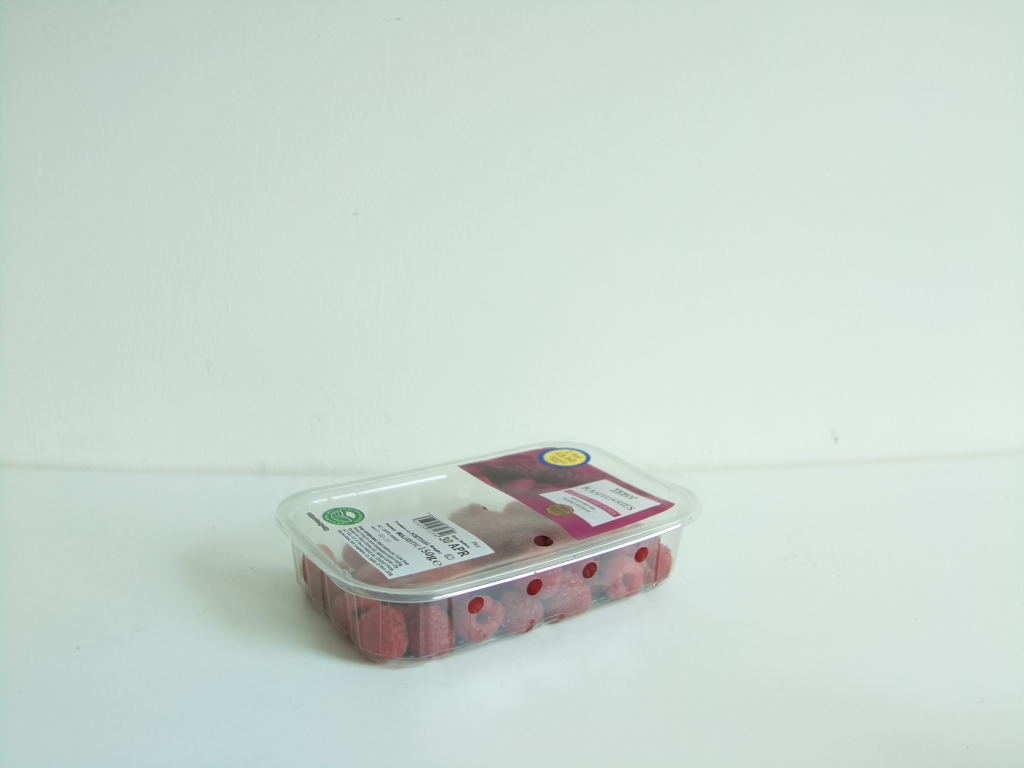soft-fruit: (280, 445, 701, 668)
